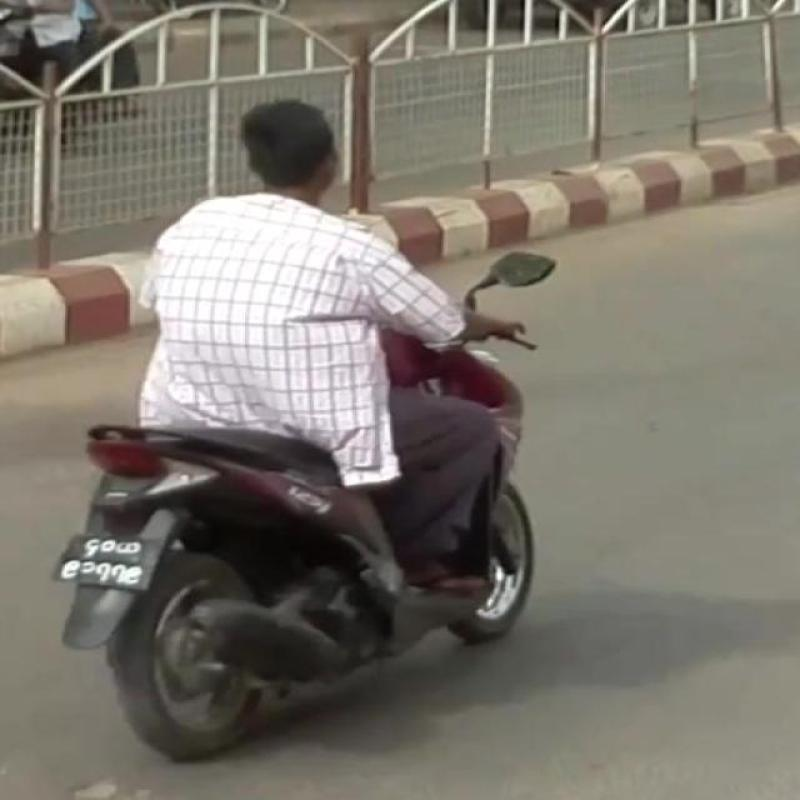nohelmet: (214, 75, 414, 286)
